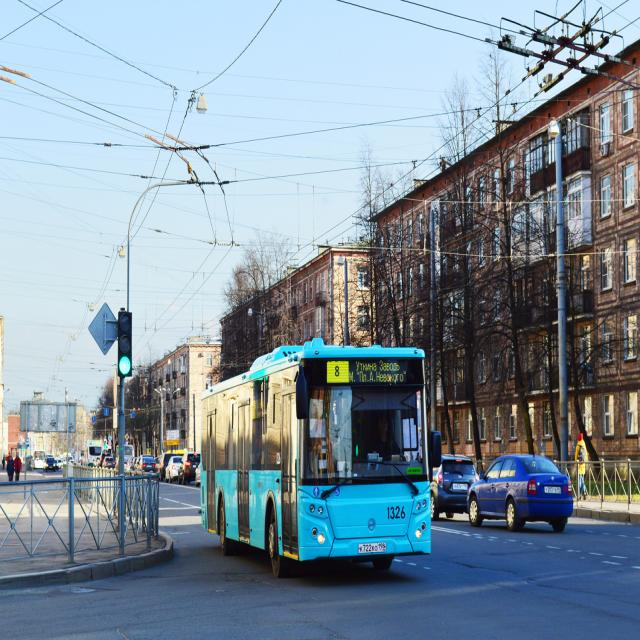number-of-bus: (334, 363, 343, 381)
